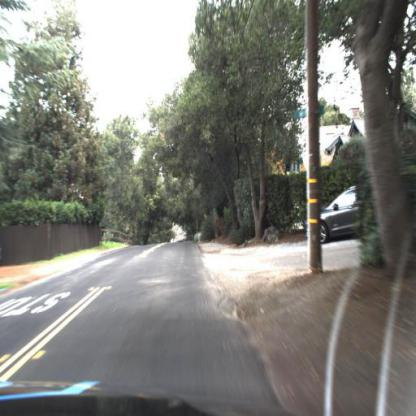car: (304, 184, 372, 245)
